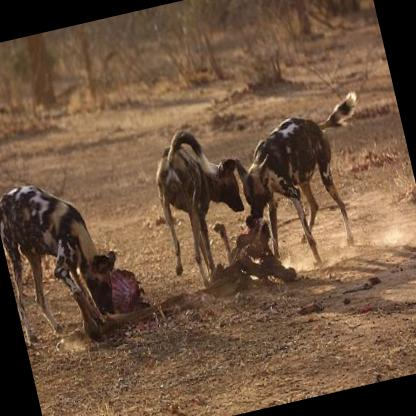African_hunting_dog: (217, 85, 391, 281), (0, 164, 134, 357), (141, 117, 262, 301)
